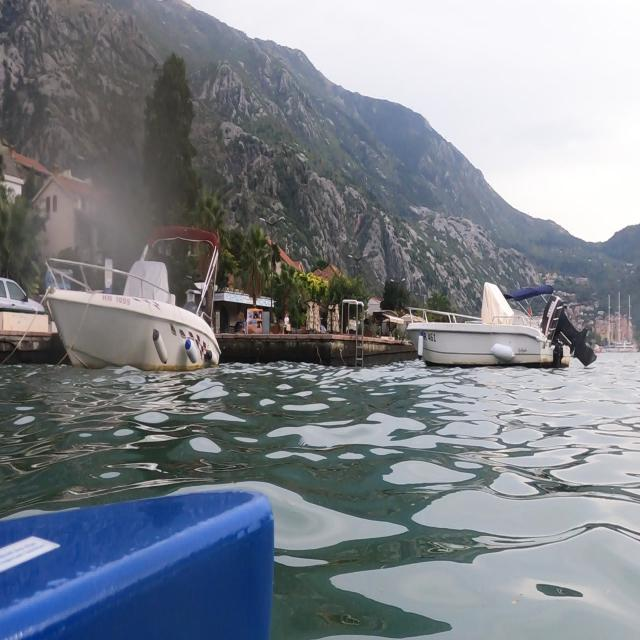boat: (42, 222, 224, 374), (395, 273, 598, 388)
